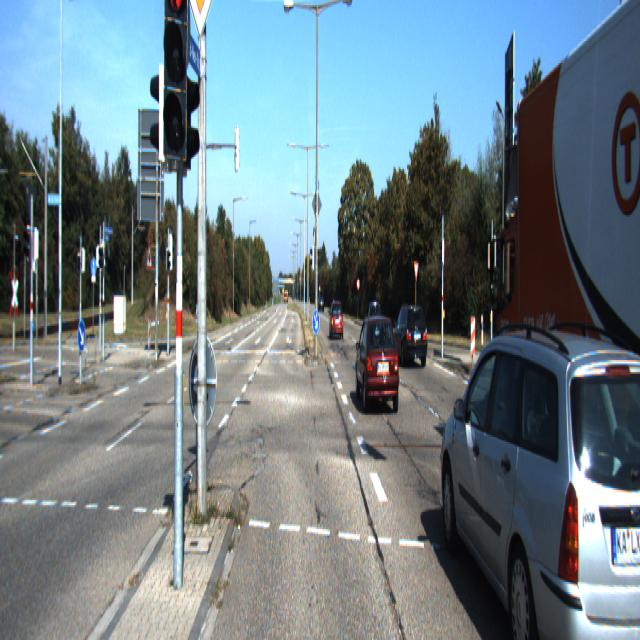Car: (486, 0, 640, 570), (440, 319, 640, 638), (355, 312, 399, 418), (392, 301, 428, 370), (364, 299, 383, 343), (329, 300, 343, 340)
